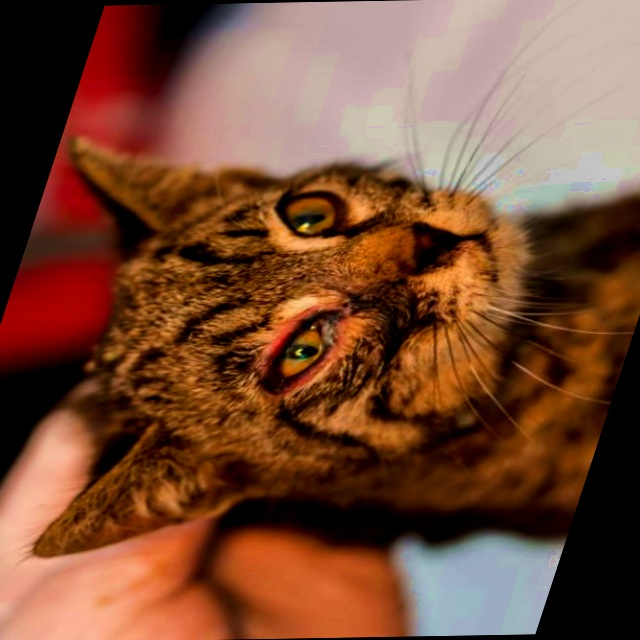eye_infection: (247, 307, 355, 397)
